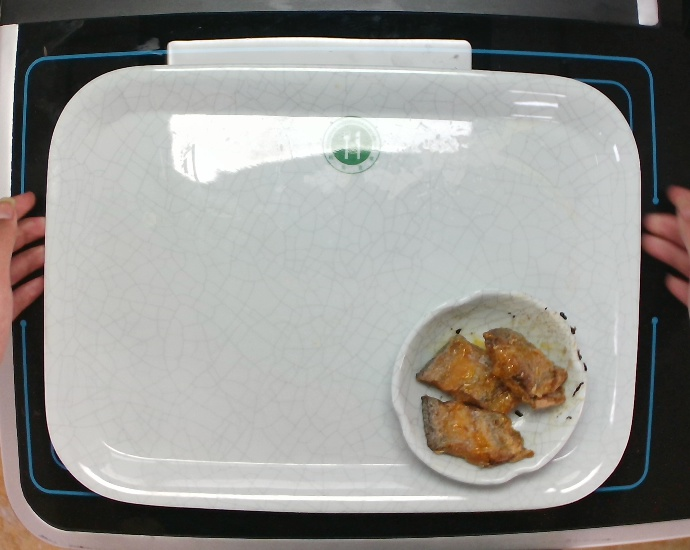JYsf-Ao_Yuan_Wan: (385, 282, 595, 496)
